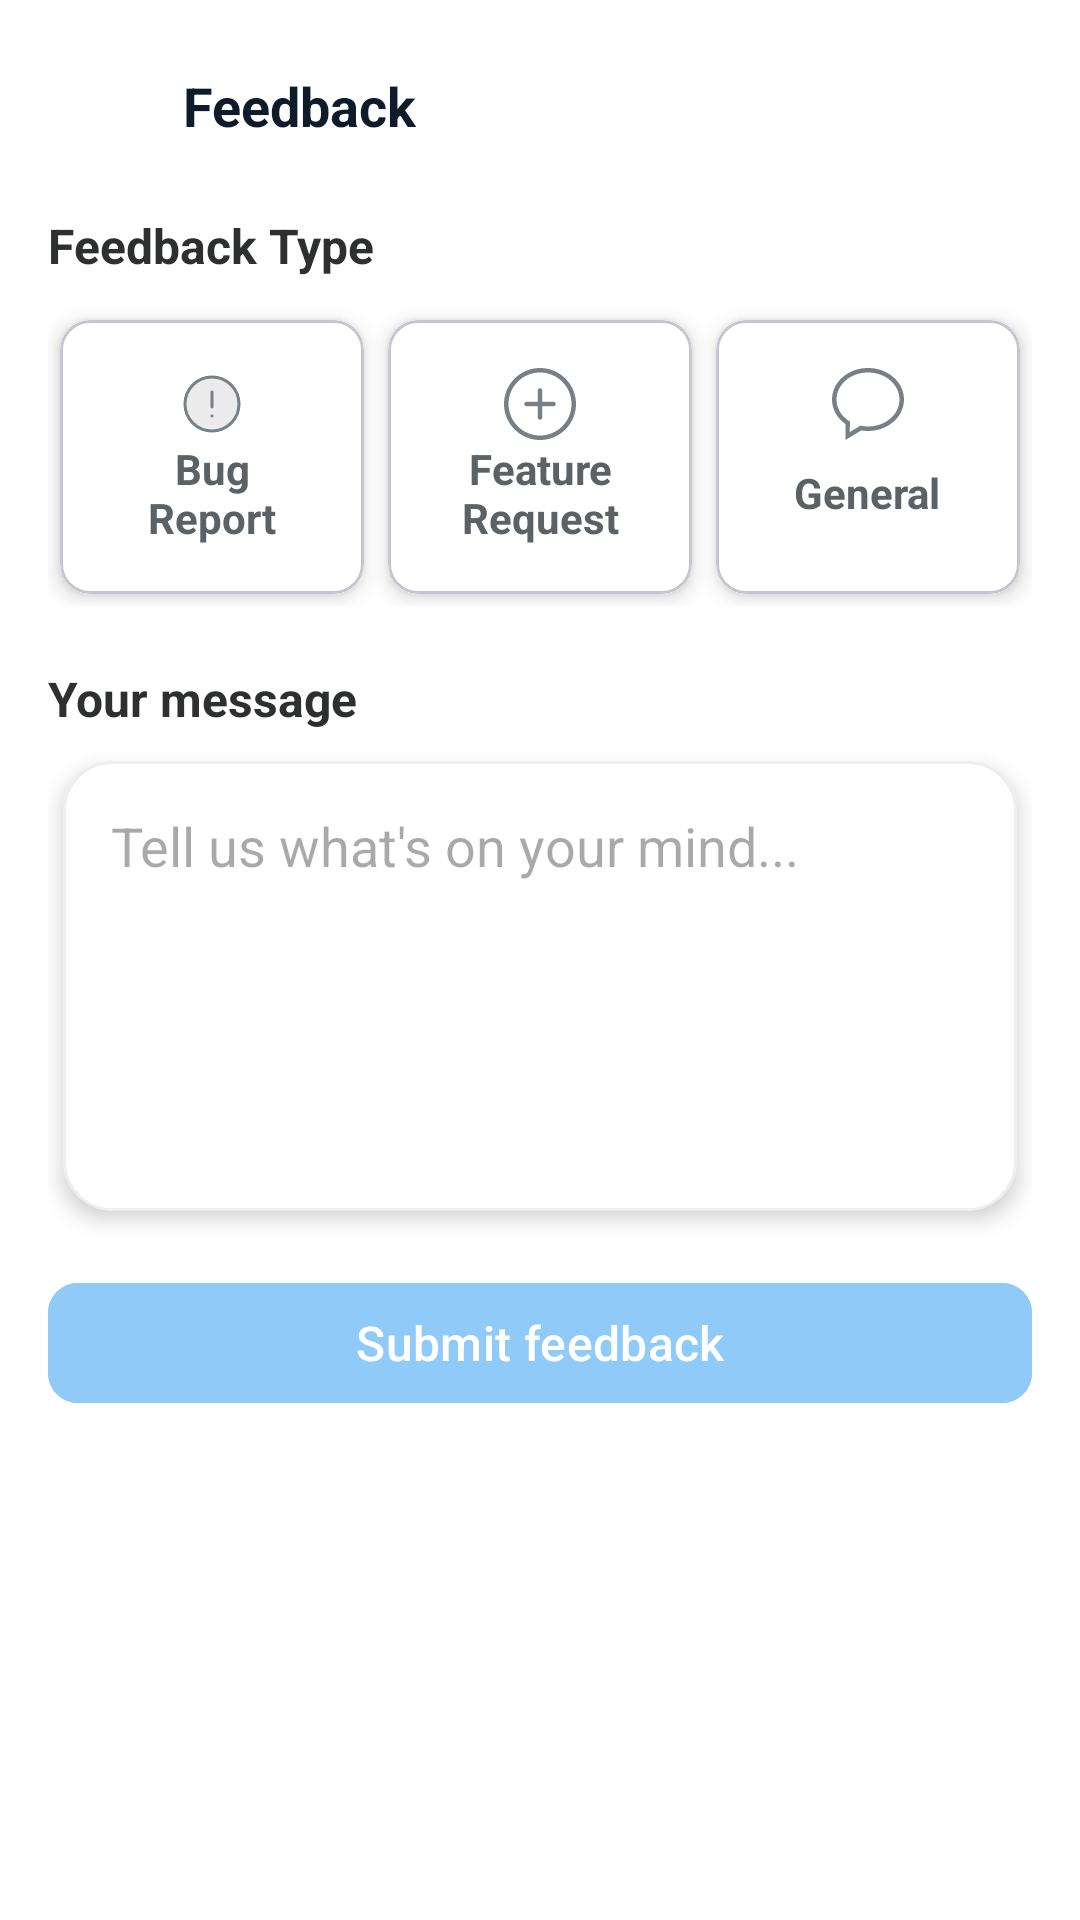

Named icons in this screenshot (1080 × 1920) and their centers, (x,y):
plus feedback: (540,404)
